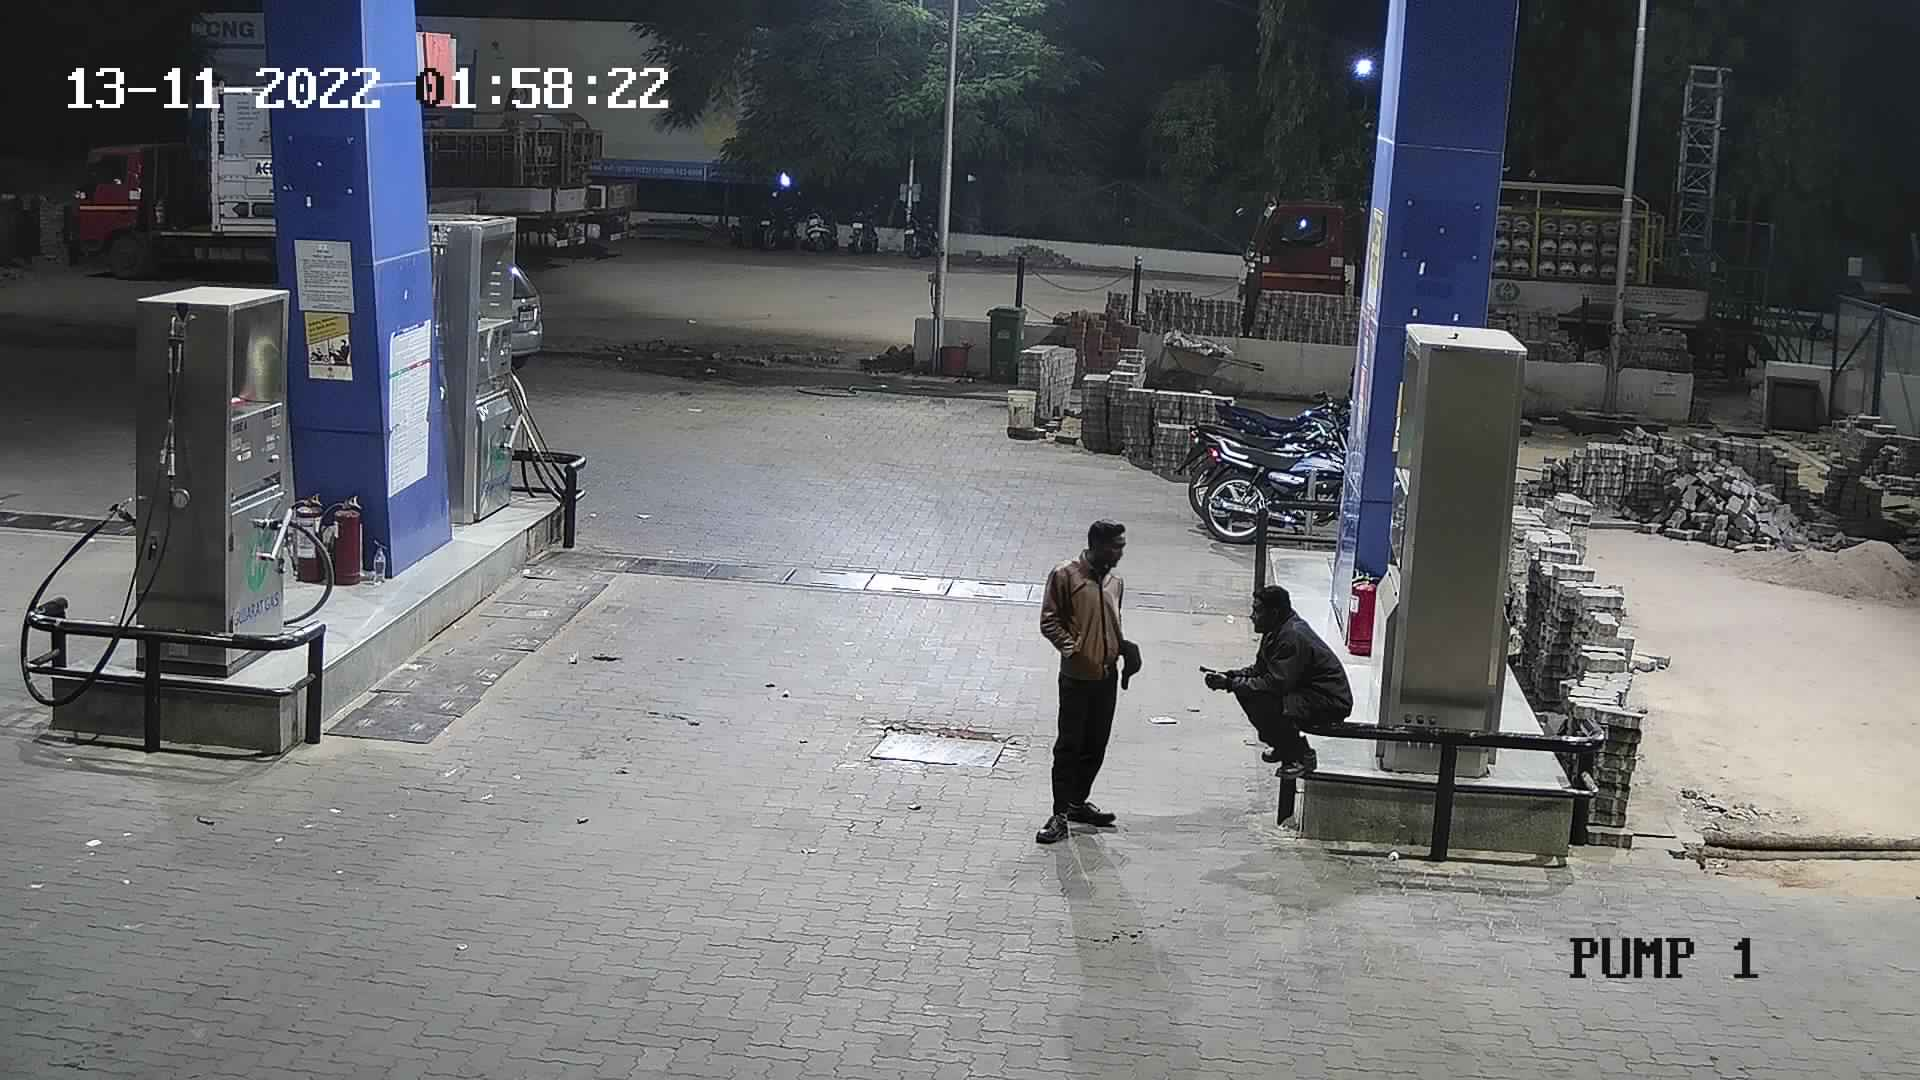Bike: (1171, 376, 1362, 554), (840, 191, 891, 258), (746, 186, 798, 253), (795, 193, 841, 262), (895, 189, 940, 260)
Car: (502, 248, 553, 389)
HMV: (409, 73, 650, 266), (63, 74, 287, 278), (1211, 177, 1379, 344)
